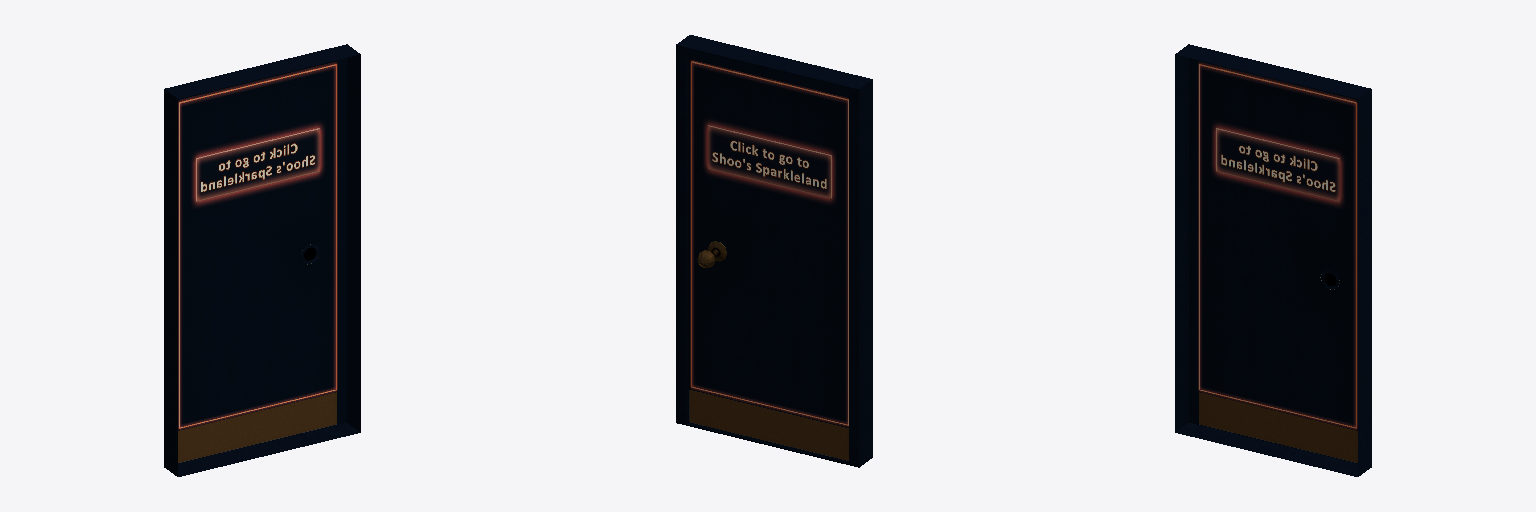
3 views of the same model, side by side, from view 1: azimuth 30°, elevation 25°; view 2: azimuth 150°, elevation 25°; view 3: azimuth 330°, elevation 25° (orthographic).
Parts seen in each view (by area): view 1: doorShoo; view 2: doorShoo; view 3: doorShoo.
Boxes of the visible parts, box(x1,y1,x2,y2) form: doorShoo: box(164, 44, 360, 476); doorShoo: box(676, 35, 872, 467); doorShoo: box(1175, 44, 1371, 476).
Size of the model in its own units: 1.17 by 2.31 by 0.2977.
1 materials, 1 textured.